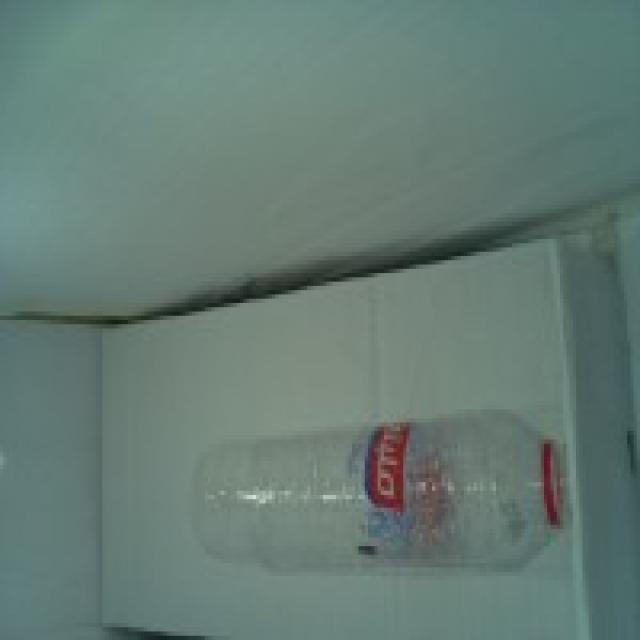plastic_bottle: (197, 410, 573, 577)
